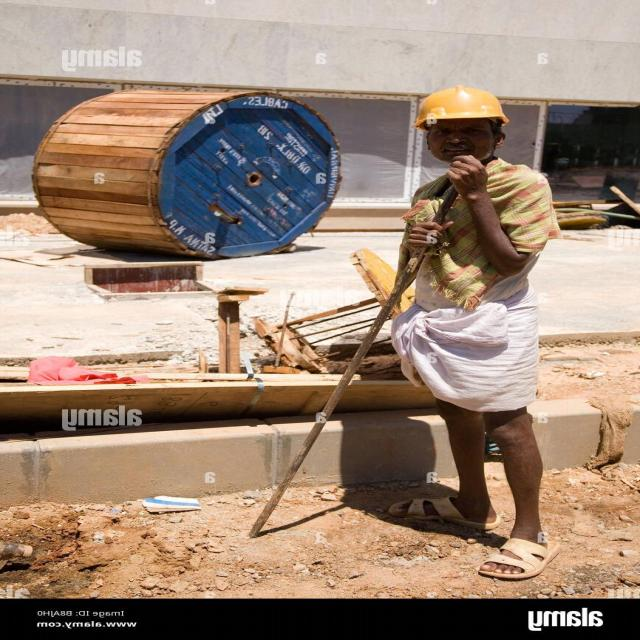Reflective-Jacket: (391, 156, 555, 305)
Safety-Helmet: (410, 80, 509, 128)
